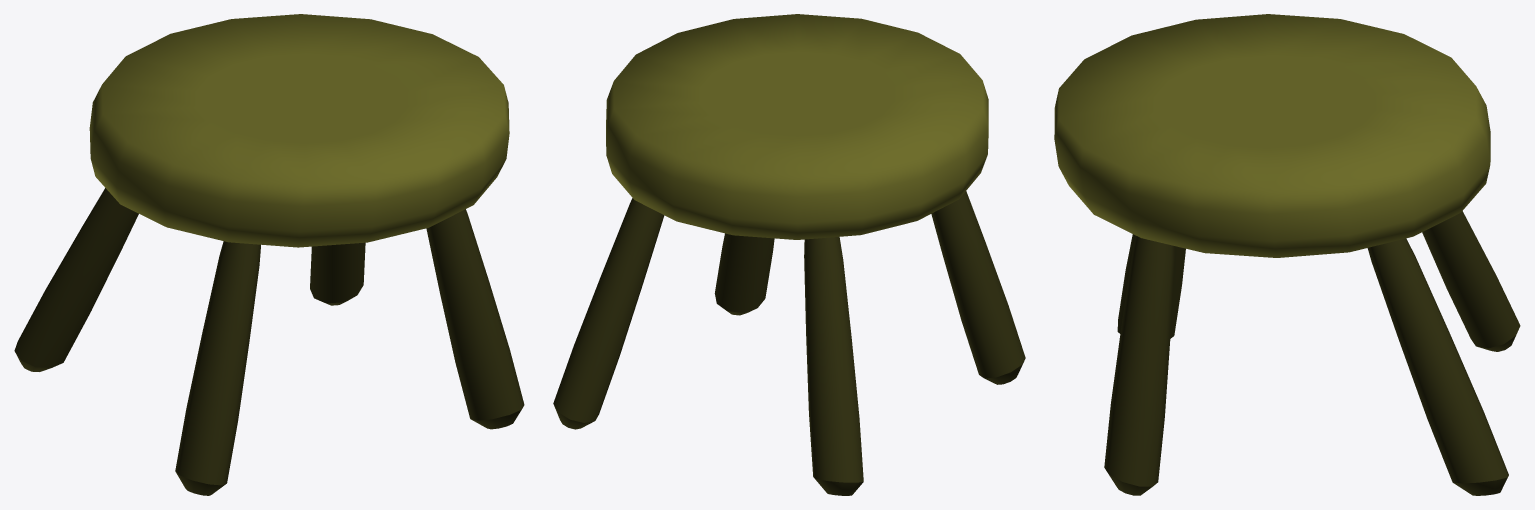
The model's file is kidschair_green.FBX.
The picture shows the model from 3 angles, left to right: view 1: azimuth 30°, elevation 25°; view 2: azimuth 150°, elevation 25°; view 3: azimuth 270°, elevation 25°; orthographic projection. The views are drawn at different scales.
Parts seen in each view (by area): view 1: Object001; view 2: Object001; view 3: Object001.
Boxes of the visible parts, bbox=[...] form: Object001: bbox=[14, 14, 524, 495]; Object001: bbox=[553, 14, 1025, 495]; Object001: bbox=[1054, 14, 1520, 495].
Bounding box in the file's own units: 16.16 × 13.27 × 17.28.
